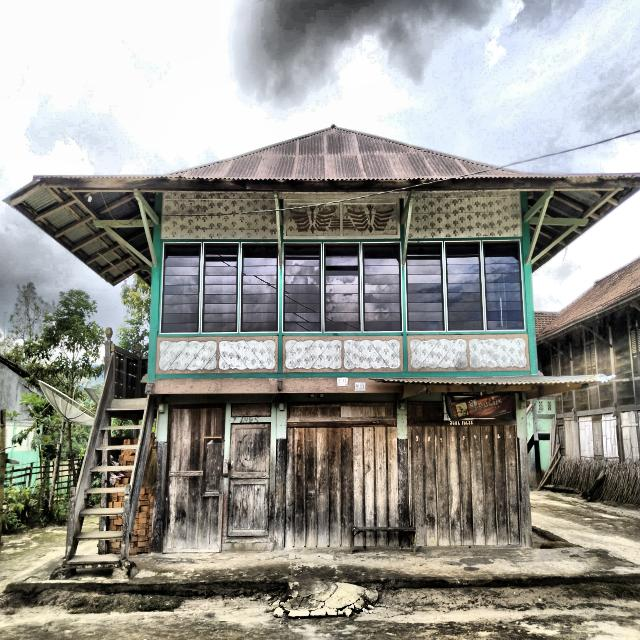column: (151, 403, 169, 554), (515, 393, 532, 547), (274, 394, 287, 549), (396, 394, 411, 527)
door: (227, 423, 271, 537)
ornamen: (155, 336, 278, 374), (407, 334, 530, 371), (281, 336, 404, 373)
roof: (4, 127, 640, 284), (534, 258, 640, 341), (376, 374, 614, 396)
stair: (63, 343, 155, 569)
wall: (405, 190, 531, 378), (278, 191, 404, 378), (155, 192, 279, 378), (163, 401, 277, 553), (407, 401, 522, 548), (284, 402, 399, 549), (611, 307, 640, 405), (571, 330, 612, 376), (575, 381, 614, 412)
window: (482, 240, 525, 330), (160, 242, 202, 333), (444, 241, 485, 331), (362, 242, 402, 332), (405, 242, 445, 332), (240, 243, 279, 332), (283, 243, 322, 332), (201, 242, 239, 333), (324, 242, 361, 332), (629, 326, 640, 375), (585, 342, 597, 375), (552, 355, 560, 376)
